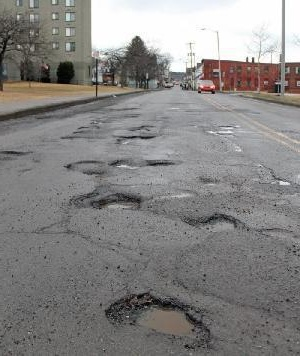pothole: (104, 289, 214, 340), (182, 210, 240, 233), (91, 190, 145, 212), (108, 157, 141, 170), (118, 131, 157, 140), (144, 157, 178, 167)
